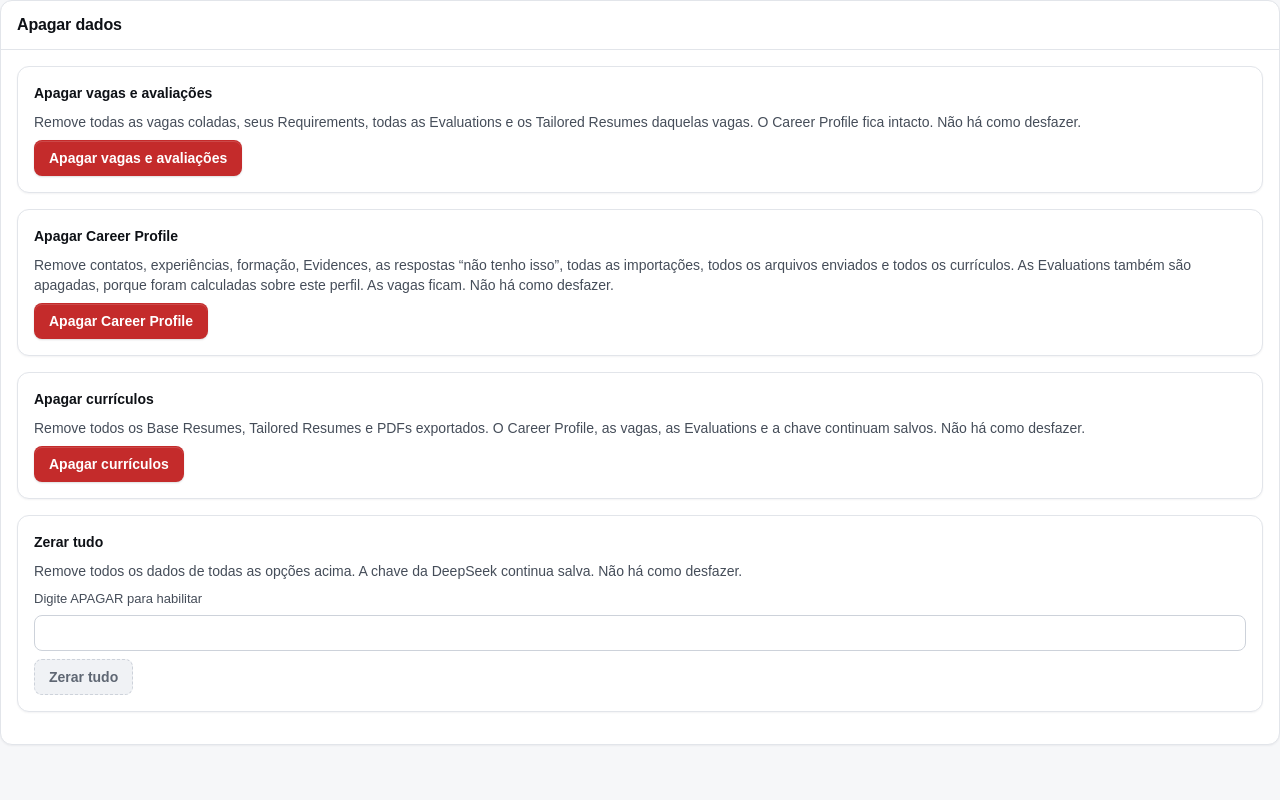
DataErasurePanel › should confirm the erasure inside a status region
Click the button "Apagar vagas e avaliações".
click(138, 158)  # box [34,140,242,176]
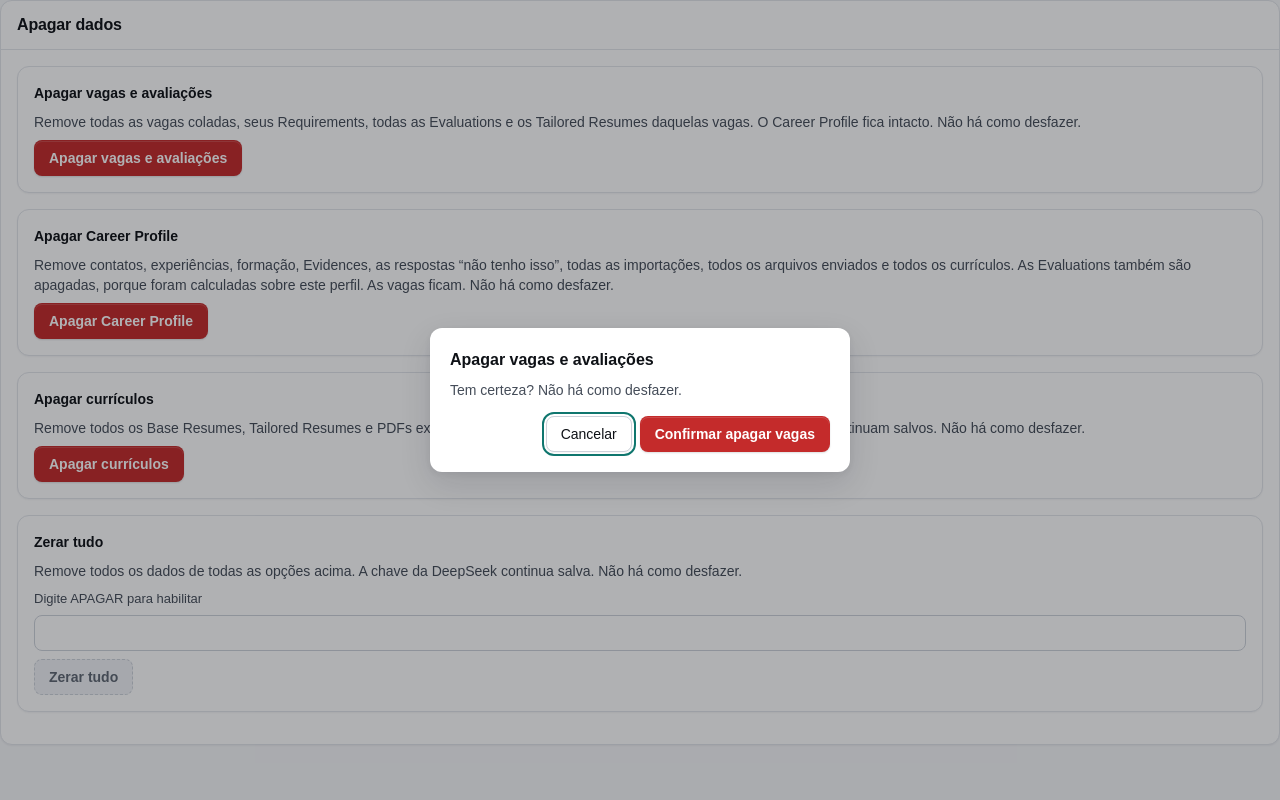
Click the button "Confirmar apagar vagas".
click(735, 434)  # box [640,416,830,452]
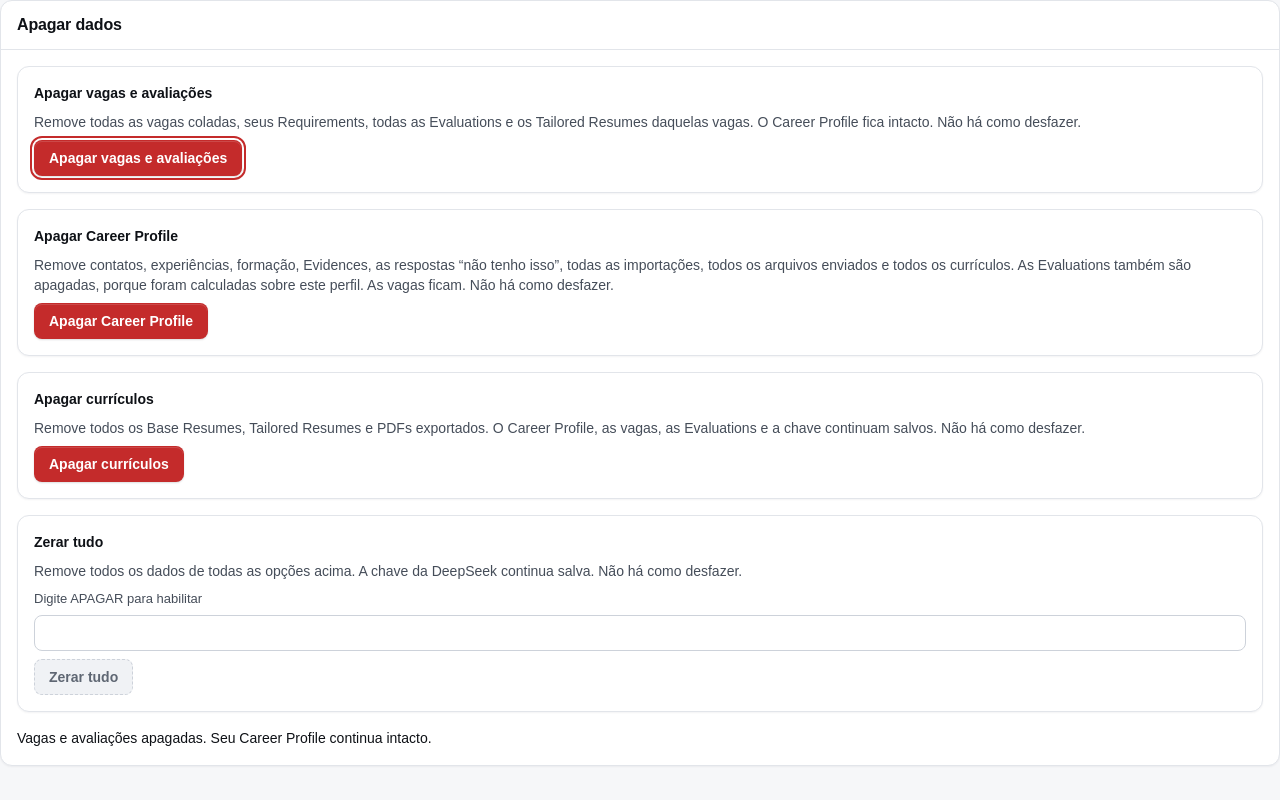
Expected: the message shows "Vagas e avaliações apagadas.", [17,730,432,746]
